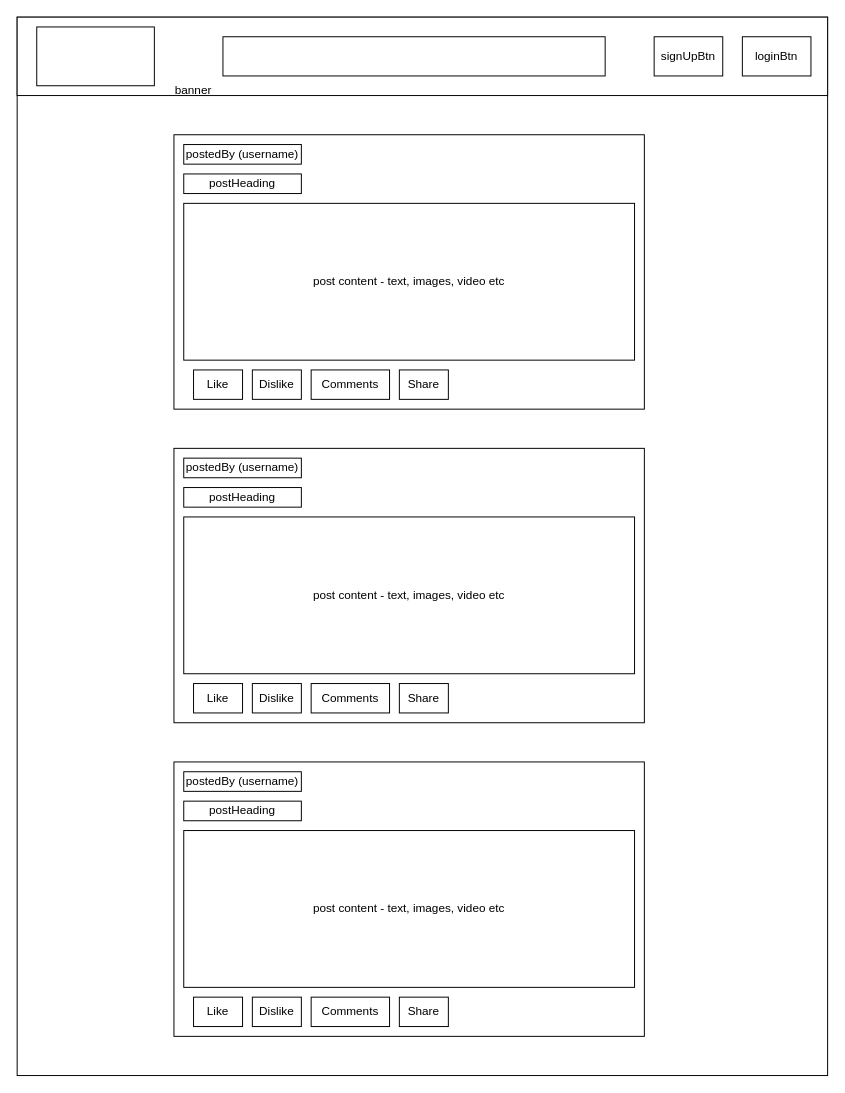
Image size: 845x1093. Some labels were removed from this diagram. Each missing label, with the centre of its shape:
logo: point (95, 56)
searchBar: point (413, 56)
